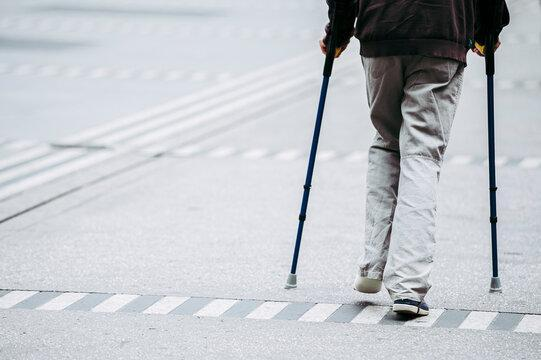crutches: (278, 2, 513, 320)
